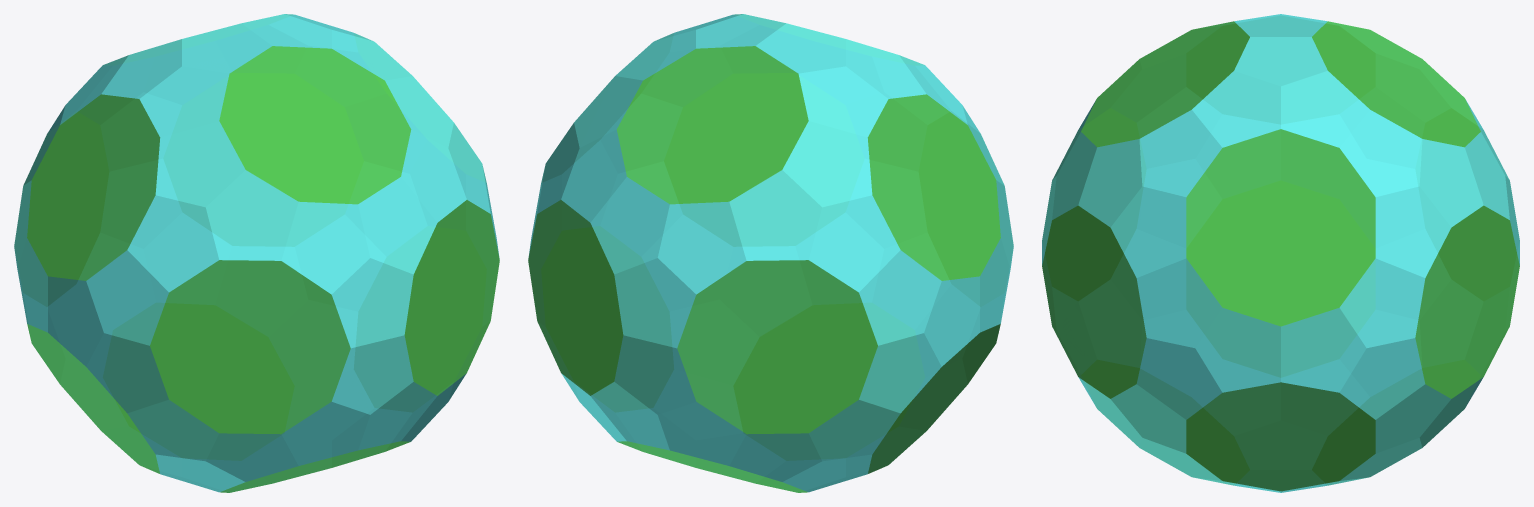
The model's file is TruncatedTriakisIcosahedron.obj.
3 renders of one model, left to right at view 1: azimuth 30°, elevation 25°; view 2: azimuth 150°, elevation 25°; view 3: azimuth 270°, elevation 25°, orthographic.
Bounding box in the file's own units: 7.77 × 7.77 × 7.77.
